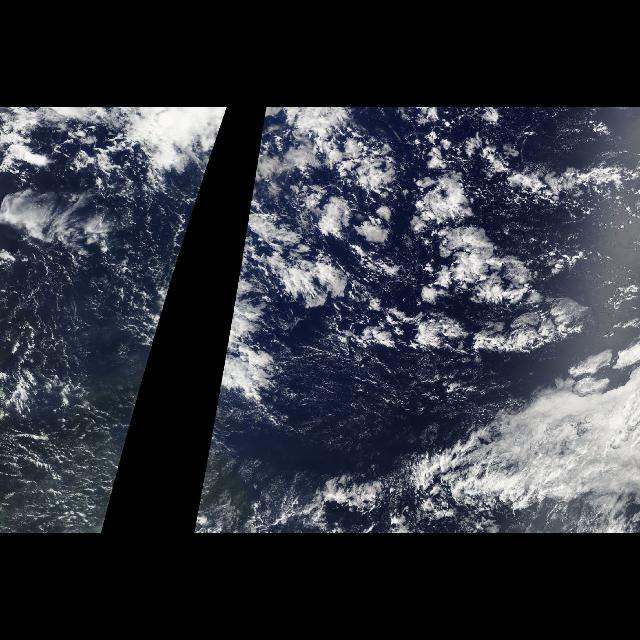Sugar: (6, 418, 132, 534), (194, 418, 290, 534)
